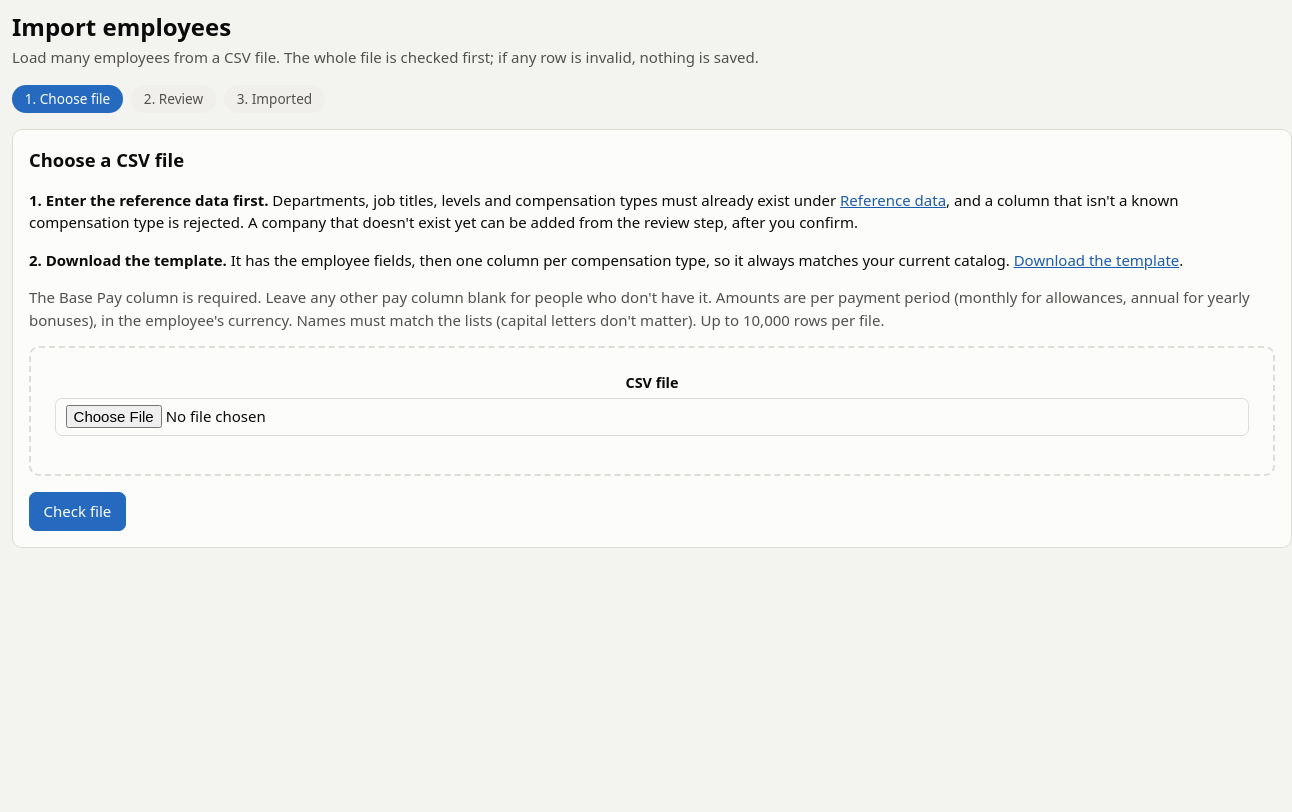
it: import wizard › needs a file before it checks anything
Click the button "Check file".
click(77, 511)  # box [29, 492, 126, 530]
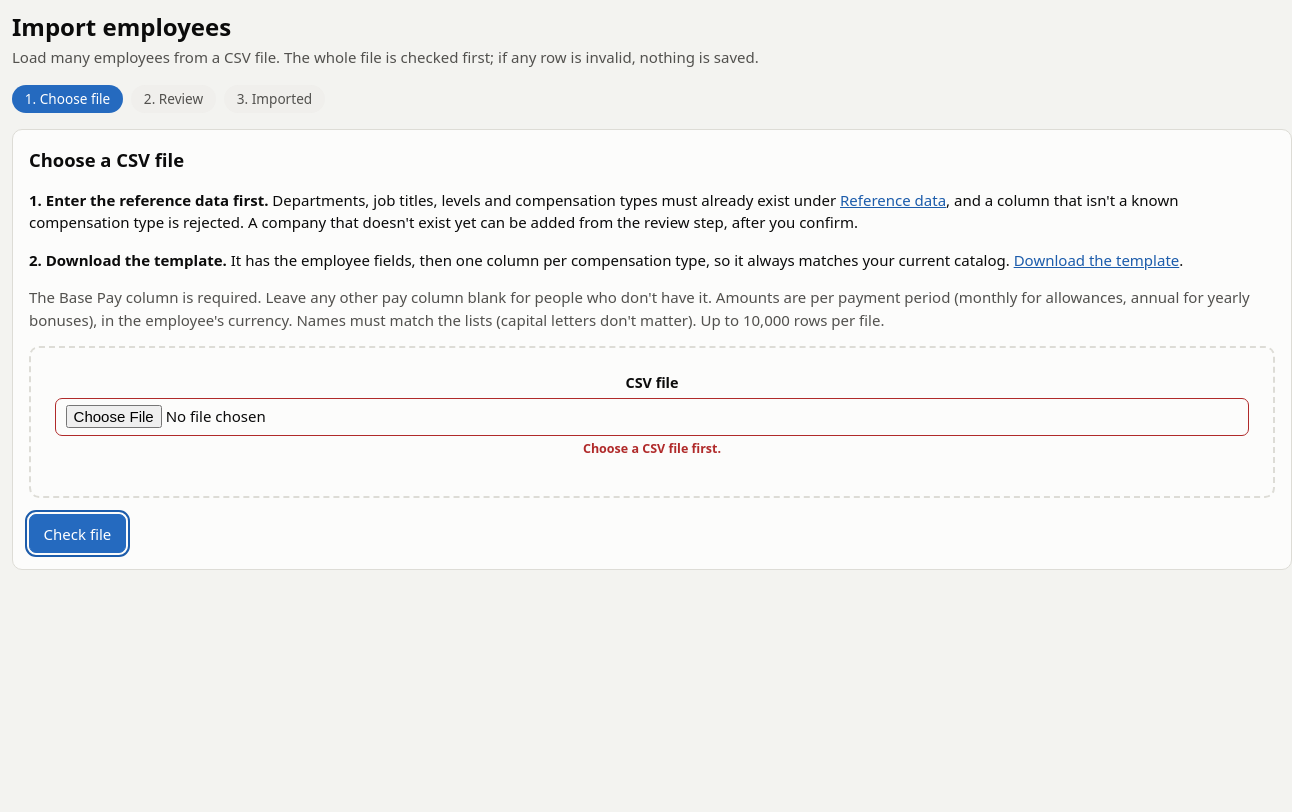
Check: the text "Choose a CSV file first." is shown, box [583, 440, 721, 457]
